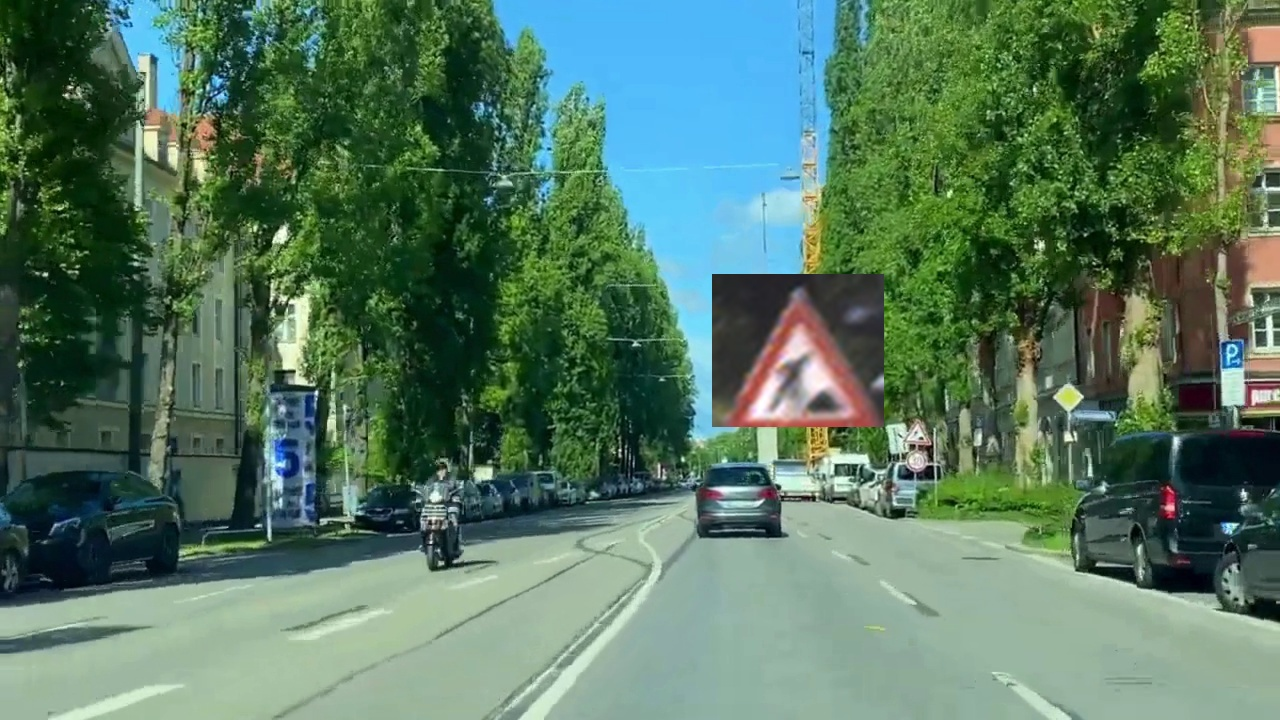Road work: (712, 274, 884, 427)
